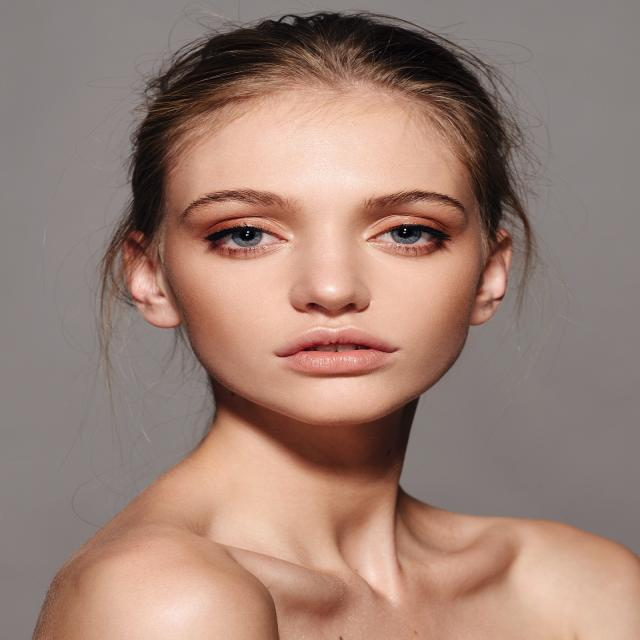earlobe: (143, 292, 183, 328), (468, 294, 498, 326)
eye: (365, 222, 451, 252), (206, 224, 292, 254)
nose: (292, 301, 377, 327)
wholeear: (121, 230, 183, 328), (468, 230, 513, 327)
